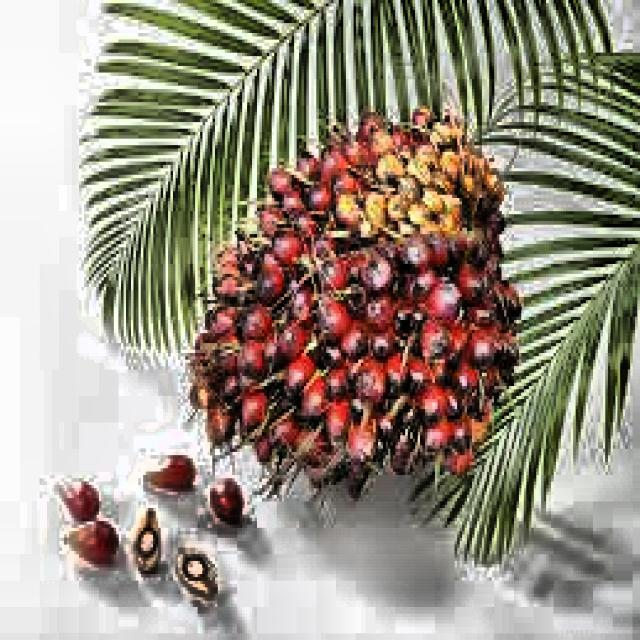FFB: (196, 127, 516, 487)
